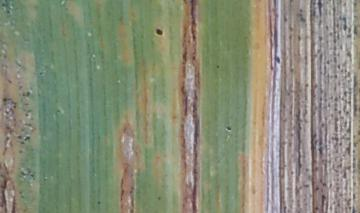tarspot: (341, 15, 349, 32), (273, 53, 283, 64), (154, 26, 164, 36), (1, 95, 10, 103), (23, 132, 31, 141), (225, 124, 233, 132), (94, 198, 102, 206), (26, 89, 32, 97), (215, 62, 221, 69), (156, 194, 162, 201), (17, 134, 23, 139), (130, 208, 135, 213)
